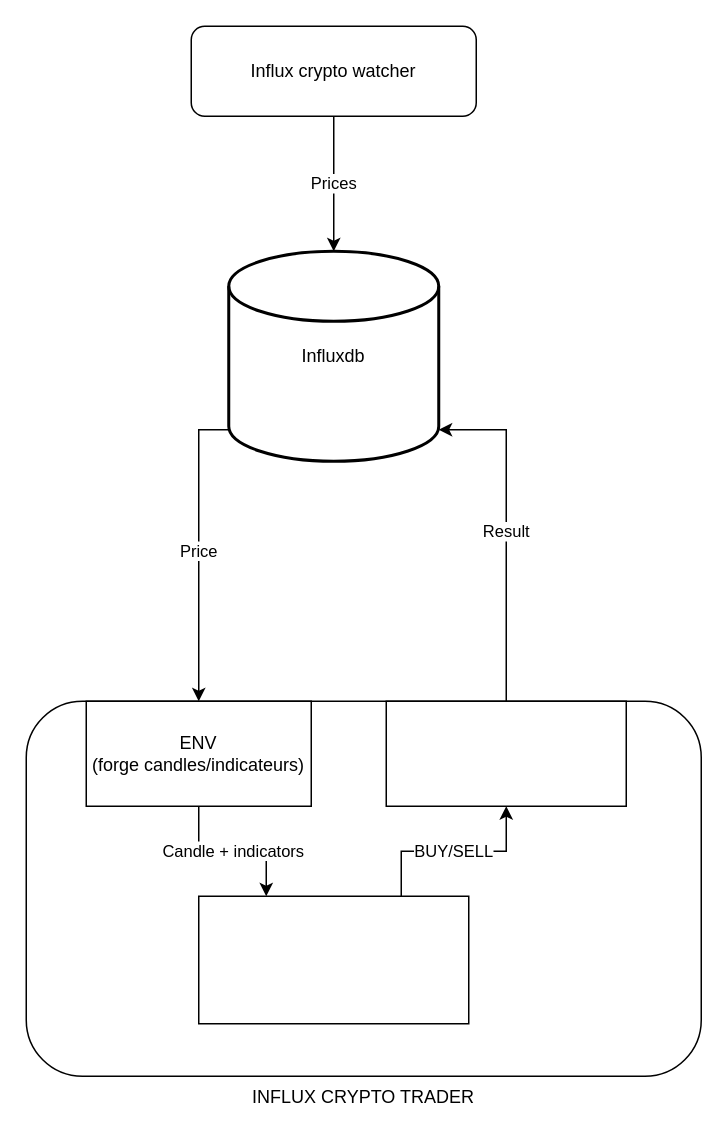
The diagram is 728 pixels wide and 1134 high, and some of its shapes have lost their labels. Each missing label, with the centre of its shape:
Portfolio: pixel 505 753
Trader: pixel 333 959
